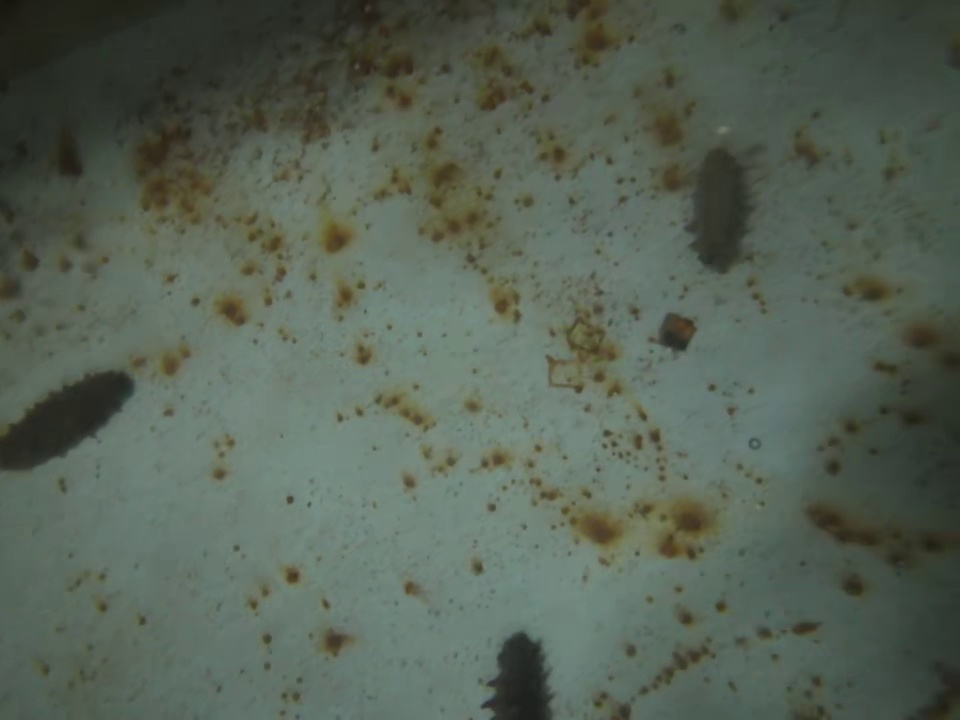seacucumber: (1, 371, 145, 473), (689, 146, 751, 276), (481, 629, 559, 720)
